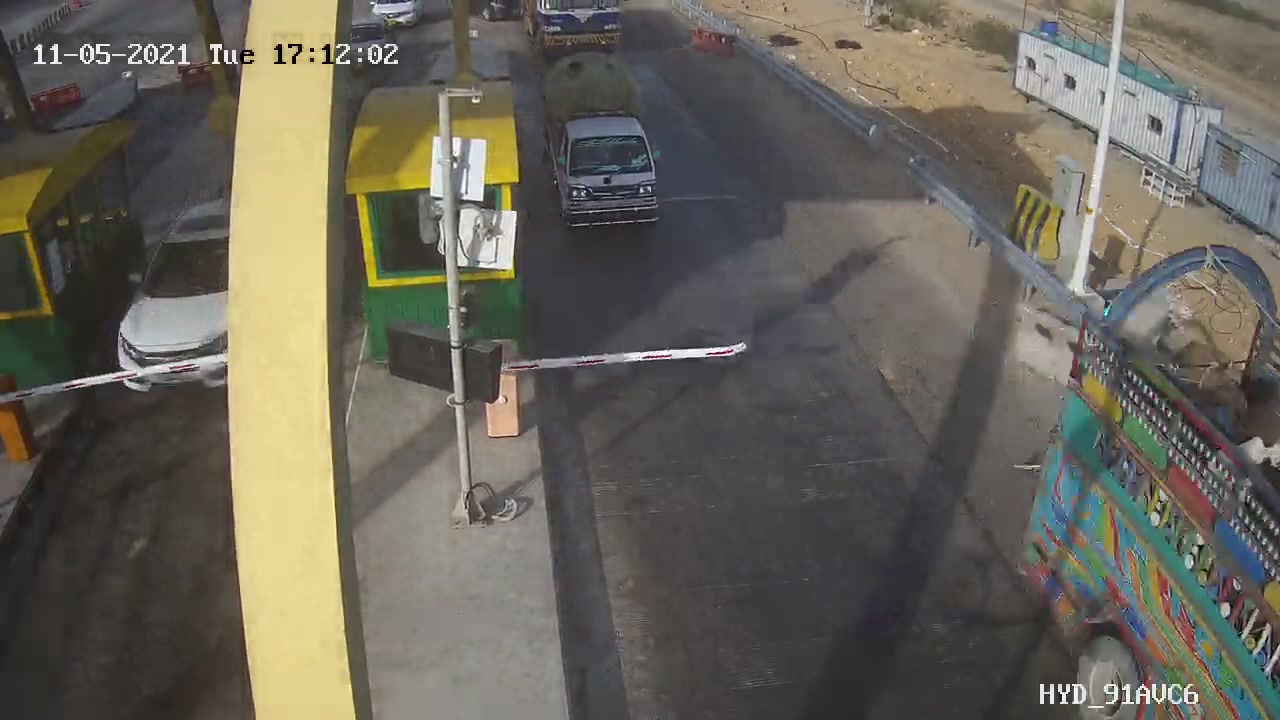F1: (526, 48, 687, 247)
